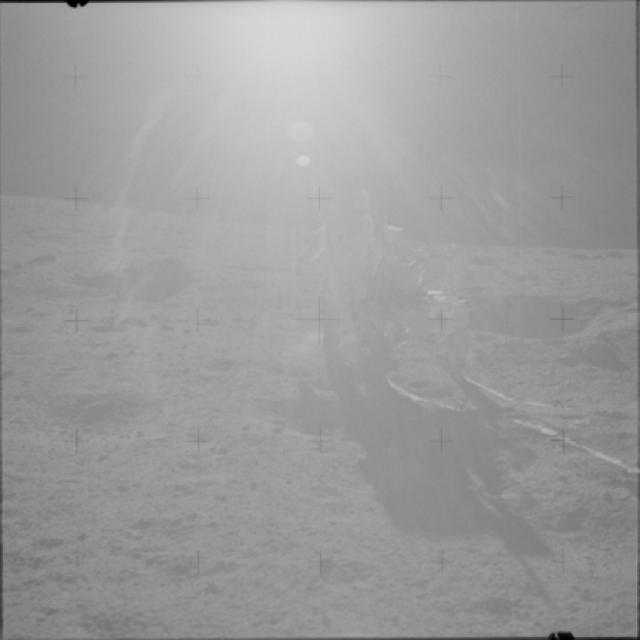crater: (0, 372, 200, 462), (456, 278, 638, 356), (582, 332, 638, 390)
